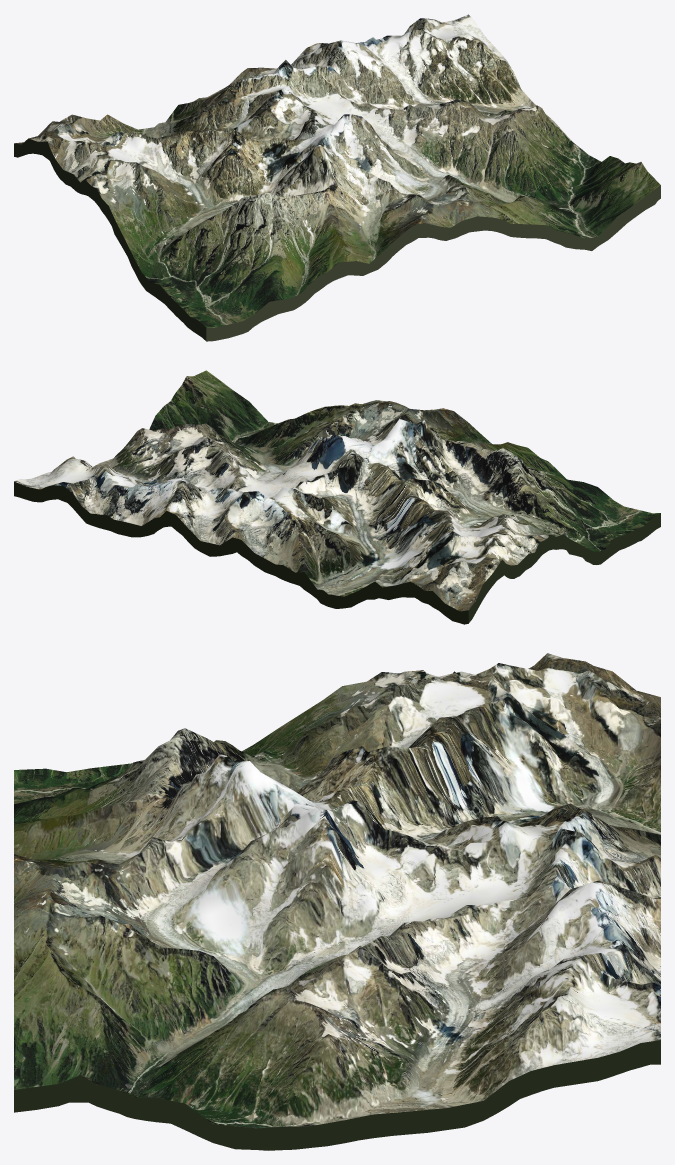
File: ChalaadiGlacier2.glb
3 views of the same model, one above another, from view 1: azimuth 30°, elevation 25°; view 2: azimuth 150°, elevation 25°; view 3: azimuth 270°, elevation 25° (orthographic). The views are drawn at different scales.
Visible parts, largest first — view 1: TerrainTop, TerrainSideNewSmoothed; view 2: TerrainTop, TerrainSideNewSmoothed; view 3: TerrainTop, TerrainSideNewSmoothed.
Boxes of the visible parts, bbox=[...] form: TerrainTop: bbox=[15, 14, 660, 327]; TerrainSideNewSmoothed: bbox=[14, 138, 660, 341]; TerrainTop: bbox=[14, 370, 659, 611]; TerrainSideNewSmoothed: bbox=[14, 481, 660, 624]; TerrainTop: bbox=[14, 653, 660, 1128]; TerrainSideNewSmoothed: bbox=[14, 1040, 660, 1150].
Bounding box in the file's own units: 334 × 81.88 × 245.
Materials: 4 (1 with a texture image).
